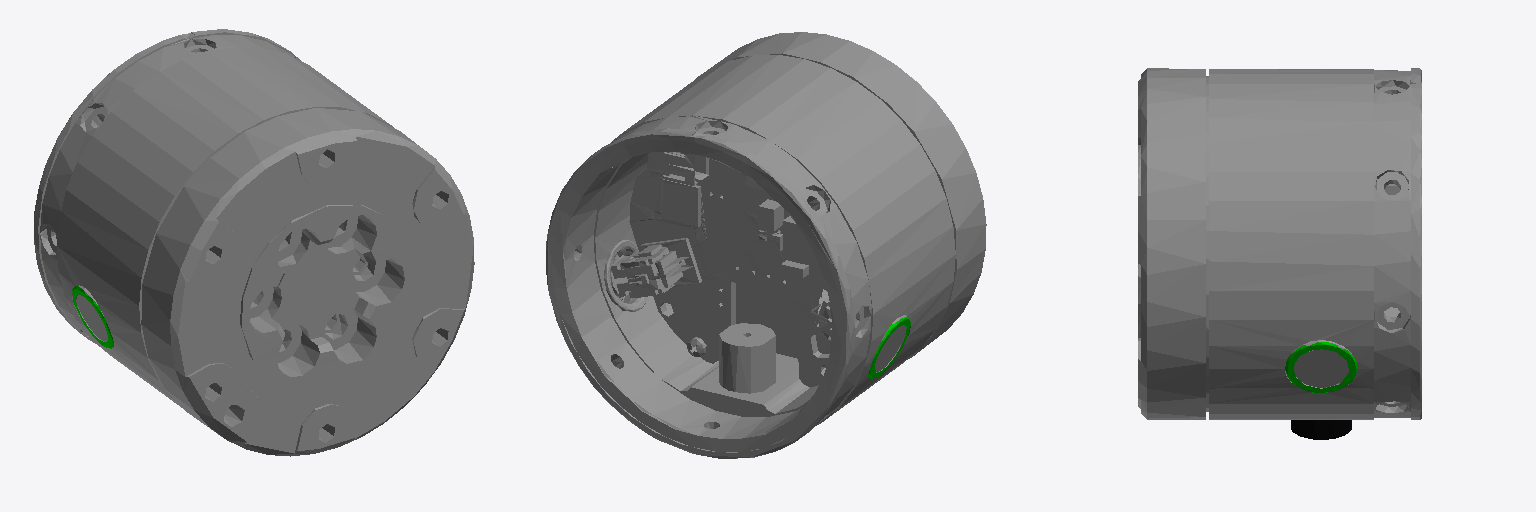
3 views of the same model, side by side, from view 1: azimuth 30°, elevation 25°; view 2: azimuth 150°, elevation 25°; view 3: azimuth 270°, elevation 25° (orthographic).
Visible parts, largest first — view 1: arm_l_link7; view 2: arm_l_link7; view 3: arm_l_link7.
Part boxes in pixels (left/top/right/bottom): arm_l_link7: left=34, top=29, right=474, bottom=456; arm_l_link7: left=546, top=32, right=986, bottom=458; arm_l_link7: left=1138, top=68, right=1421, bottom=439.
Size of the model in its own units: 0.0573 by 0.0612 by 0.046.